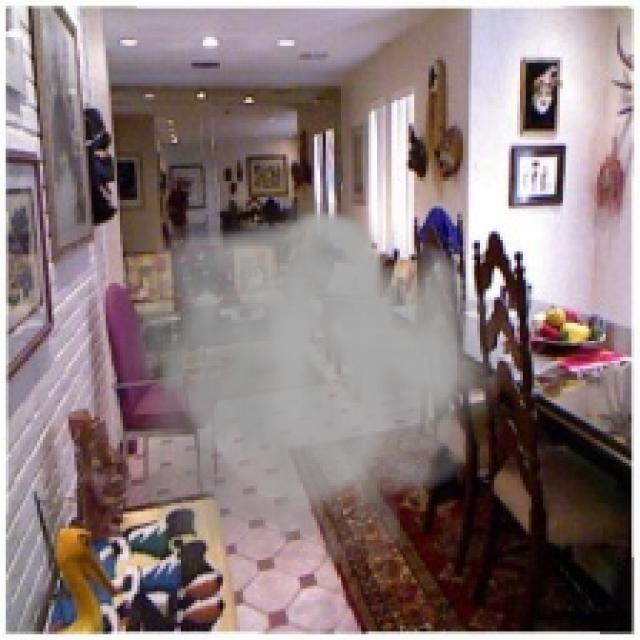Smoke: (106, 202, 500, 618)
